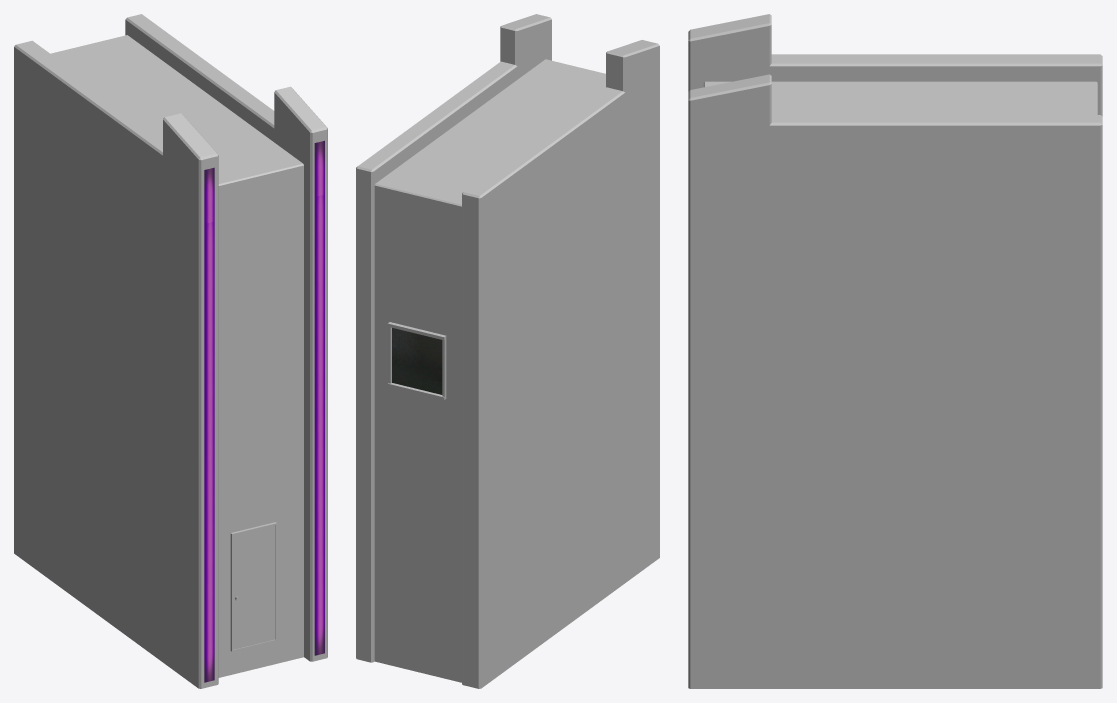
Rendered from bldg_mall_23b.fbx.
3 views of the same model, side by side, from view 1: azimuth 30°, elevation 25°; view 2: azimuth 150°, elevation 25°; view 3: azimuth 270°, elevation 25° (orthographic). The views are drawn at different scales.
Visible parts, largest first — view 1: bldg_mall_23b; view 2: bldg_mall_23b; view 3: bldg_mall_23b.
Boxes of the visible parts, left/top/right/bottom form: bldg_mall_23b: left=14, top=14, right=327, bottom=688; bldg_mall_23b: left=356, top=14, right=659, bottom=688; bldg_mall_23b: left=688, top=14, right=1102, bottom=688.
Size of the model in its own units: 3.24 by 13.06 by 8.1.
